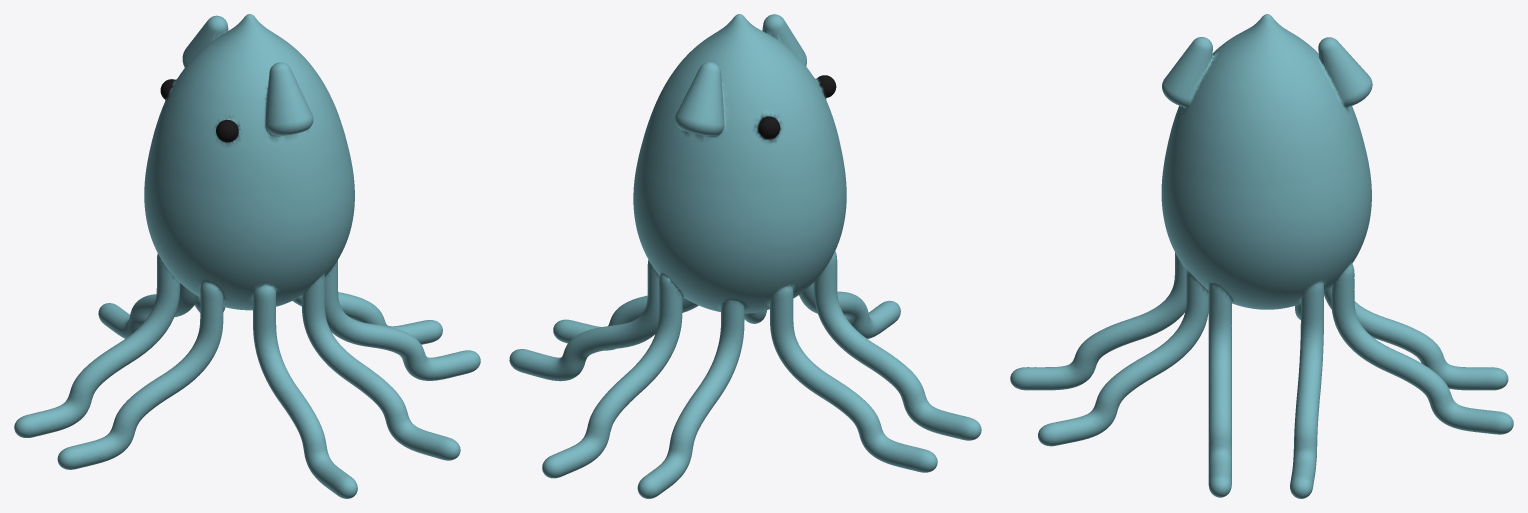
The picture shows the model from 3 angles, left to right: view 1: azimuth 30°, elevation 25°; view 2: azimuth 150°, elevation 25°; view 3: azimuth 270°, elevation 25°; orthographic projection.
Visible parts, largest first — view 1: Area (9); view 2: Area (9); view 3: Area (9).
Boxes of the visible parts, left/top/right/bottom form: Area (9): left=14, top=14, right=480, bottom=498; Area (9): left=509, top=14, right=981, bottom=498; Area (9): left=1010, top=14, right=1513, bottom=498.
Bounding box in the file's own units: 473 × 414 × 488.
1 material, 1 textured.
